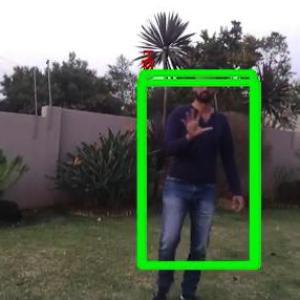follow_hand: (175, 102, 213, 140)
